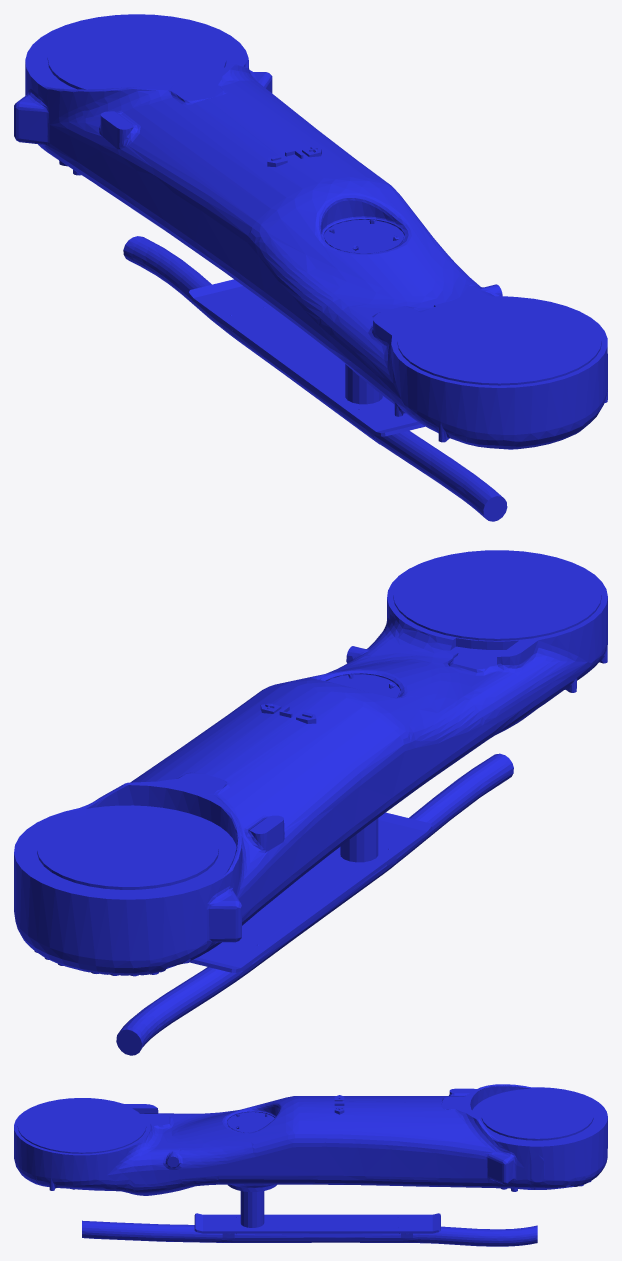
The picture shows the model from 3 angles, top to bottom: view 1: azimuth 30°, elevation 25°; view 2: azimuth 150°, elevation 25°; view 3: azimuth 270°, elevation 25°; orthographic projection. The views are drawn at different scales.
Parts seen in each view (by area): view 1: /Link2/Link2_003-mesh/0; view 2: /Link2/Link2_003-mesh/0; view 3: /Link2/Link2_003-mesh/0.
Part boxes in pixels (x1,y1,x2,y2): /Link2/Link2_003-mesh/0: (14, 14, 607, 521); /Link2/Link2_003-mesh/0: (14, 550, 607, 1055); /Link2/Link2_003-mesh/0: (14, 1084, 607, 1246).
Size of the model in its own units: 0.4123 by 0.3941 by 1.5.
